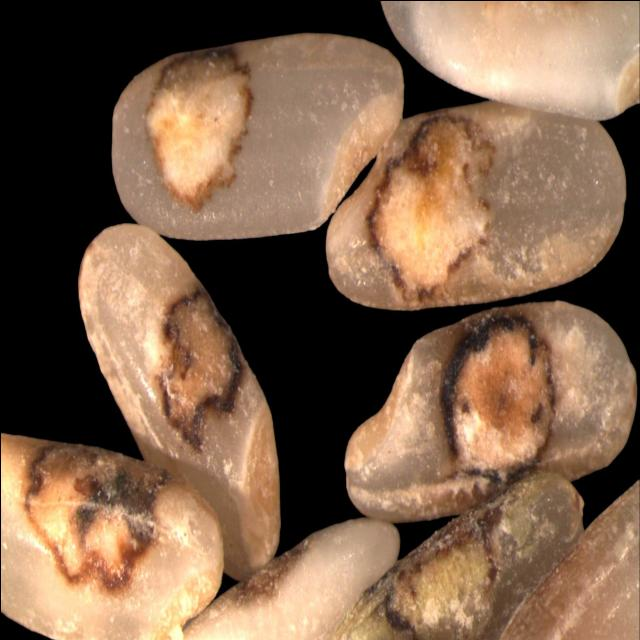Broken: (78, 223, 280, 581), (344, 299, 636, 522), (325, 100, 625, 310), (110, 34, 402, 240), (0, 432, 223, 640), (331, 470, 583, 640), (380, 0, 639, 119), (180, 518, 400, 640), (498, 478, 638, 640)
